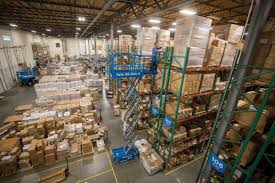Scissor Lift: (108, 53, 161, 165)
